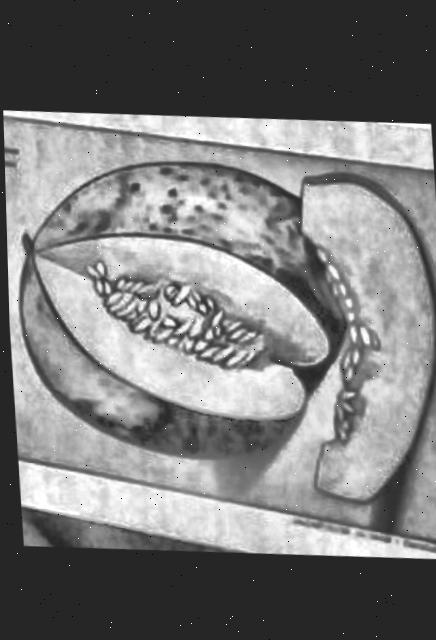El Melon: (3, 118, 436, 536)
